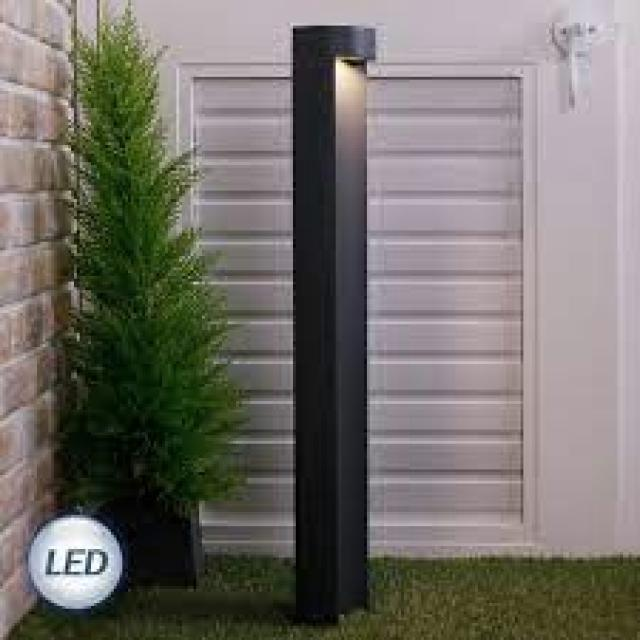bollard: (283, 16, 385, 631)
